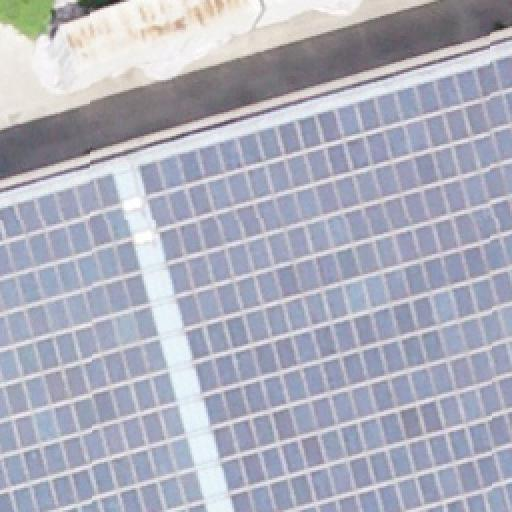solar-panel: (140, 56, 512, 512), (0, 172, 208, 512)
